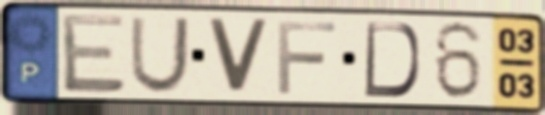6: (432, 19, 486, 103)
D: (361, 19, 424, 100)
E: (58, 11, 129, 96)
F: (274, 19, 340, 97)
U: (126, 15, 194, 96)
V: (203, 15, 273, 98)
